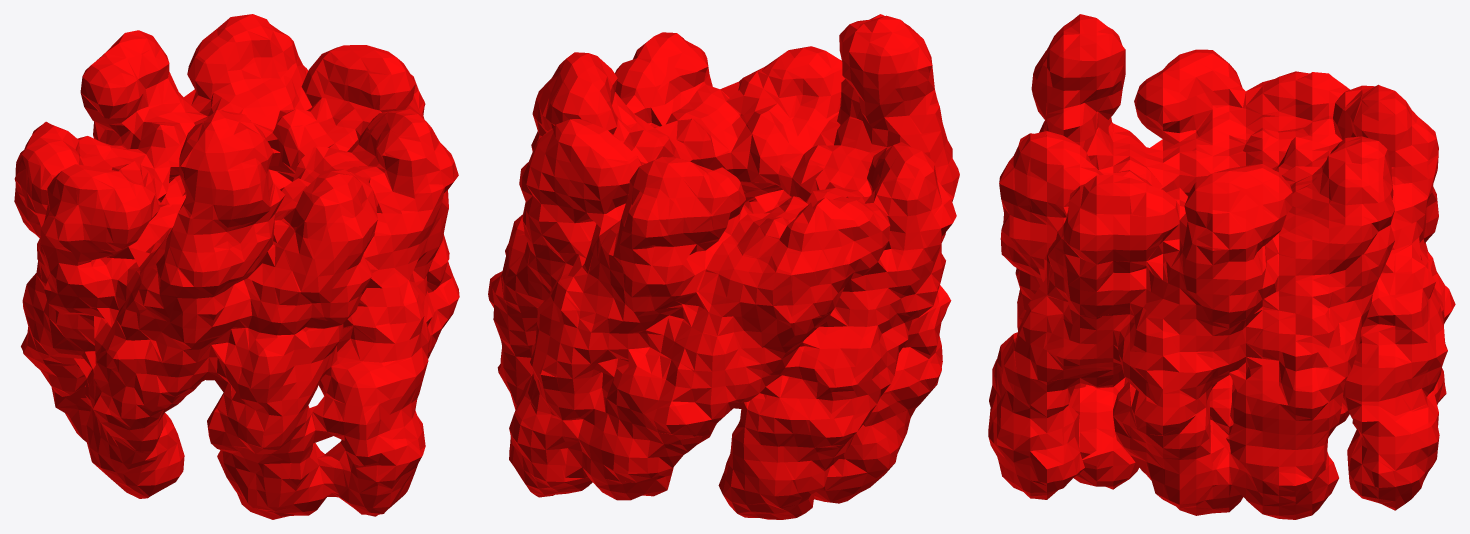
File: T_complex_protein_1_subunit_de_coarse.dae
3 views of the same model, side by side, from view 1: azimuth 30°, elevation 25°; view 2: azimuth 150°, elevation 25°; view 3: azimuth 270°, elevation 25° (orthographic). The views are drawn at different scales.
Visible parts, largest first — view 1: T_complex_protein_1_subunit_de; view 2: T_complex_protein_1_subunit_de; view 3: T_complex_protein_1_subunit_de.
Boxes of the visible parts, left/top/right/bottom form: T_complex_protein_1_subunit_de: left=14, top=14, right=459, bottom=519; T_complex_protein_1_subunit_de: left=488, top=14, right=959, bottom=519; T_complex_protein_1_subunit_de: left=988, top=14, right=1455, bottom=519.
Bounding box in the file's own units: 167 × 173 × 169.
